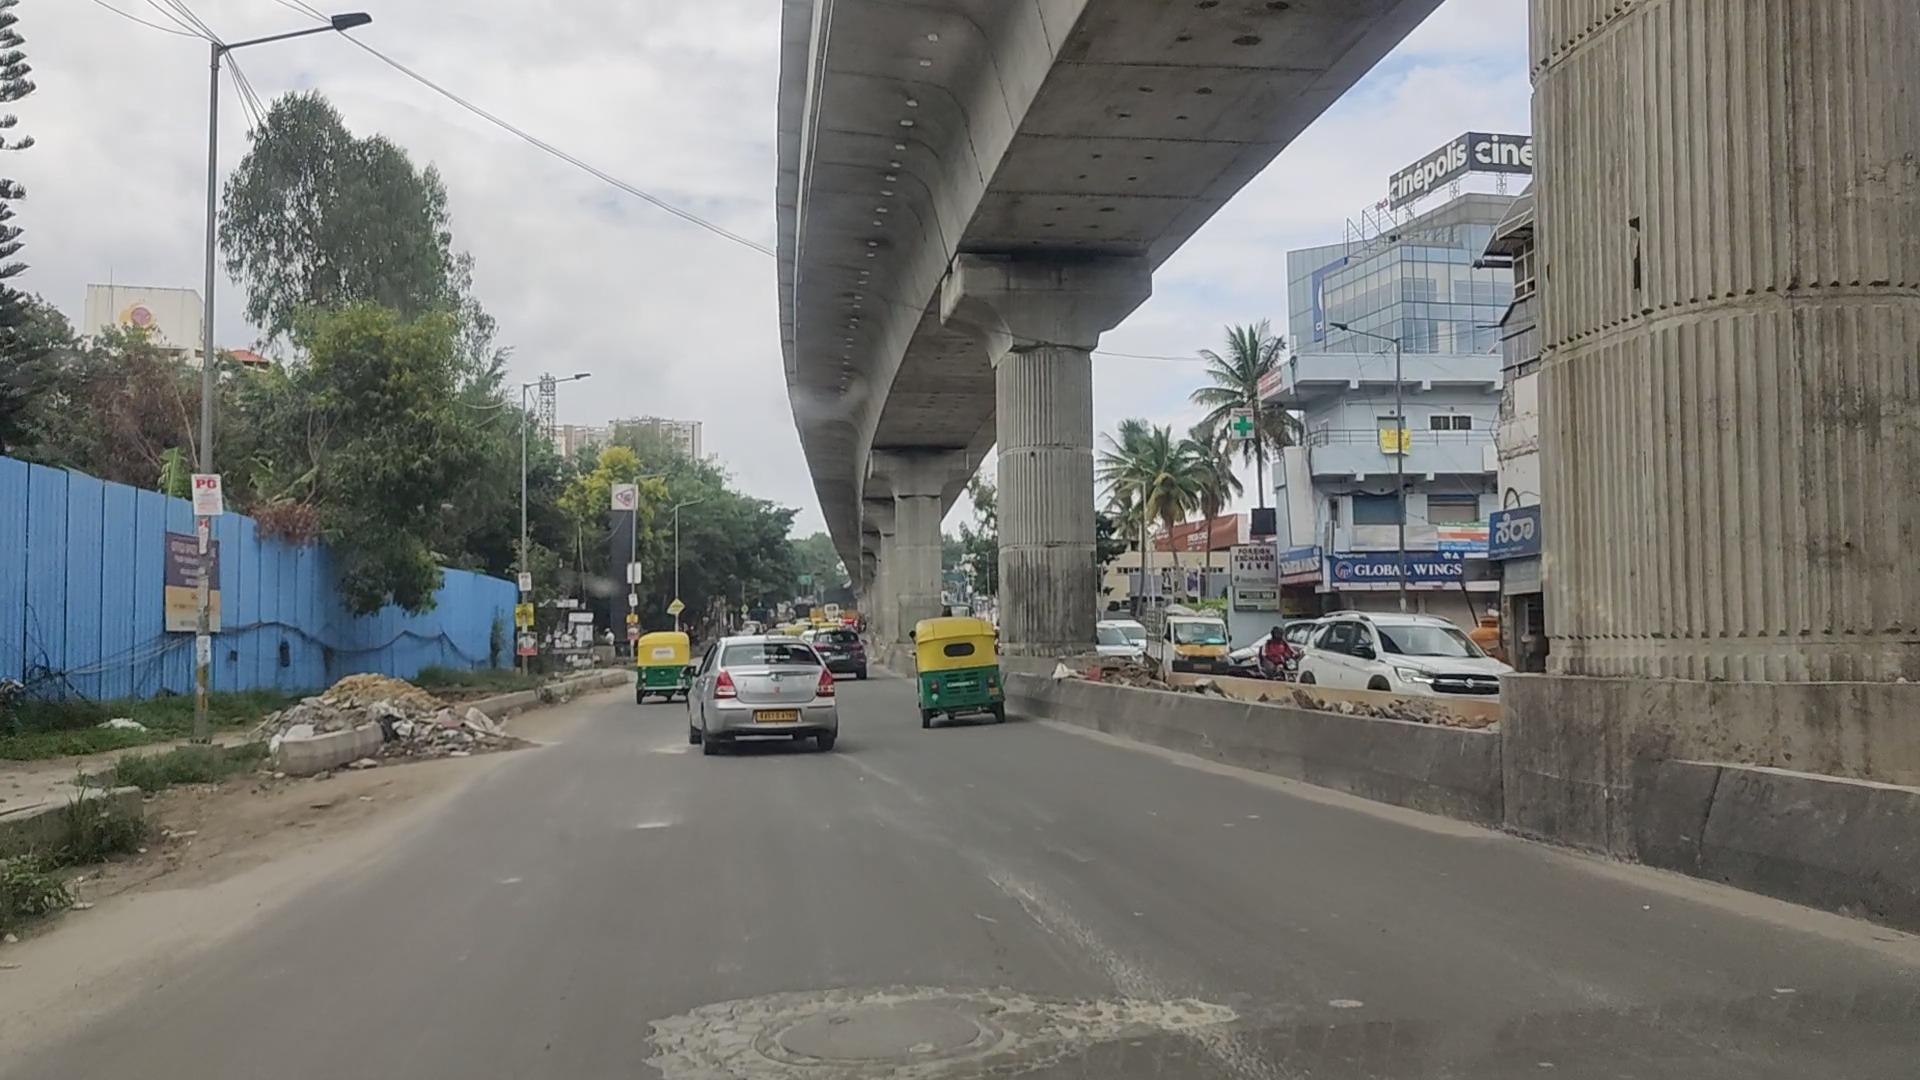LMV: (692, 628, 840, 762), (910, 618, 1005, 729), (632, 632, 696, 699)
RoadDamages: (653, 982, 1233, 1080)
